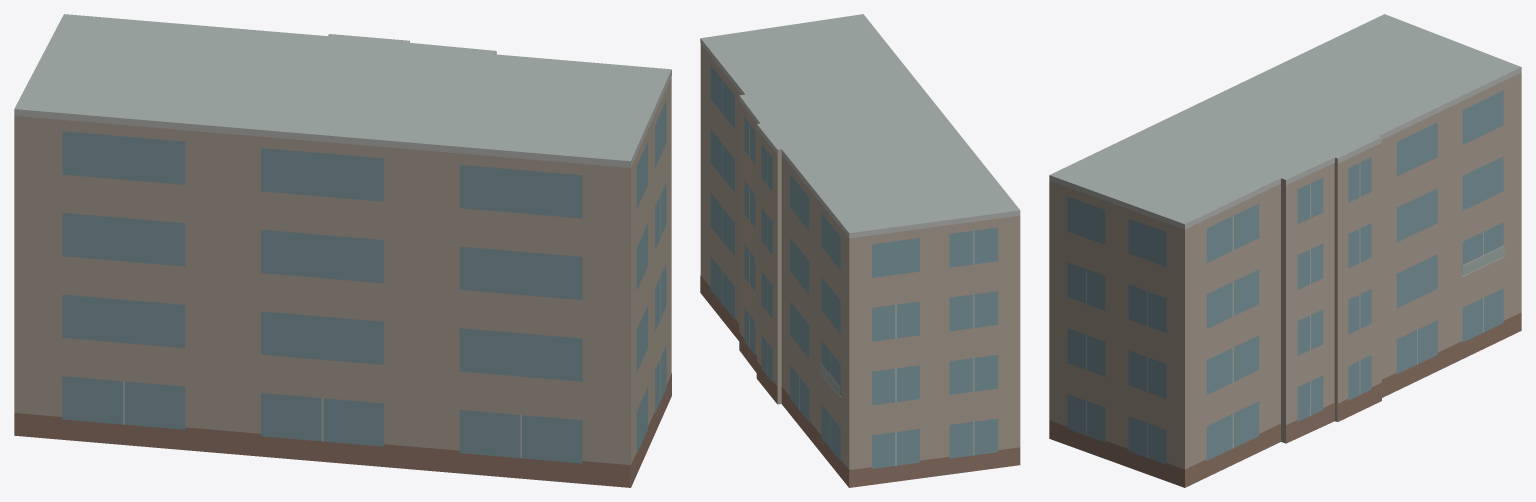
Rendered from survey-upis-32539213.glb.
The picture shows the model from 3 angles, left to right: view 1: azimuth 30°, elevation 25°; view 2: azimuth 150°, elevation 25°; view 3: azimuth 270°, elevation 25°; orthographic projection. The views are drawn at different scales.
Parts seen in each view (by area): view 1: survey-upis-32539213.tmp; view 2: survey-upis-32539213.tmp; view 3: survey-upis-32539213.tmp.
Part boxes in pixels (<box>): survey-upis-32539213.tmp: <box>14,14,671,487</box>; survey-upis-32539213.tmp: <box>700,14,1020,487</box>; survey-upis-32539213.tmp: <box>1049,14,1521,487</box>.
Bounding box in the file's own units: 20.5 × 11.98 × 19.46.
